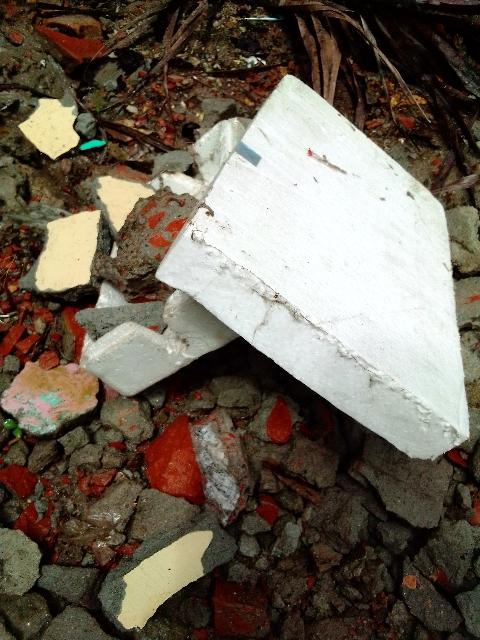cocksheet: (154, 64, 480, 474)
